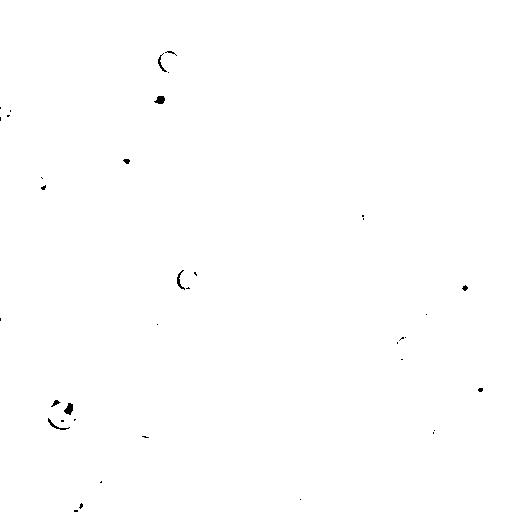micro-algae: (289, 166, 403, 280), (136, 259, 223, 343), (0, 96, 68, 173), (15, 287, 79, 353), (357, 438, 412, 495), (419, 367, 473, 424), (372, 347, 423, 402), (231, 447, 279, 494), (288, 469, 329, 511), (137, 151, 177, 191), (231, 46, 266, 89), (371, 345, 410, 382), (109, 142, 143, 177), (331, 412, 365, 446), (443, 264, 476, 299), (33, 37, 67, 68), (444, 323, 476, 355), (194, 27, 225, 60), (81, 459, 111, 490), (145, 82, 177, 111), (45, 401, 77, 429), (115, 240, 139, 277), (464, 373, 493, 402), (87, 92, 115, 122), (86, 250, 110, 285), (437, 0, 472, 23), (191, 389, 221, 414), (58, 9, 87, 34), (257, 101, 284, 127), (278, 69, 305, 94), (409, 298, 437, 322), (153, 112, 184, 133), (335, 440, 361, 465), (55, 395, 83, 418), (167, 469, 192, 494), (198, 486, 225, 509), (394, 334, 417, 361), (158, 49, 180, 77), (182, 68, 209, 90), (177, 266, 201, 290), (11, 27, 33, 53), (254, 138, 279, 160), (284, 118, 306, 141), (362, 198, 383, 222), (135, 417, 160, 437), (285, 491, 305, 511), (371, 73, 393, 91), (153, 319, 171, 339), (433, 420, 448, 443), (64, 495, 83, 511), (159, 455, 175, 474), (133, 303, 149, 321), (33, 174, 47, 192), (1, 100, 12, 121)
